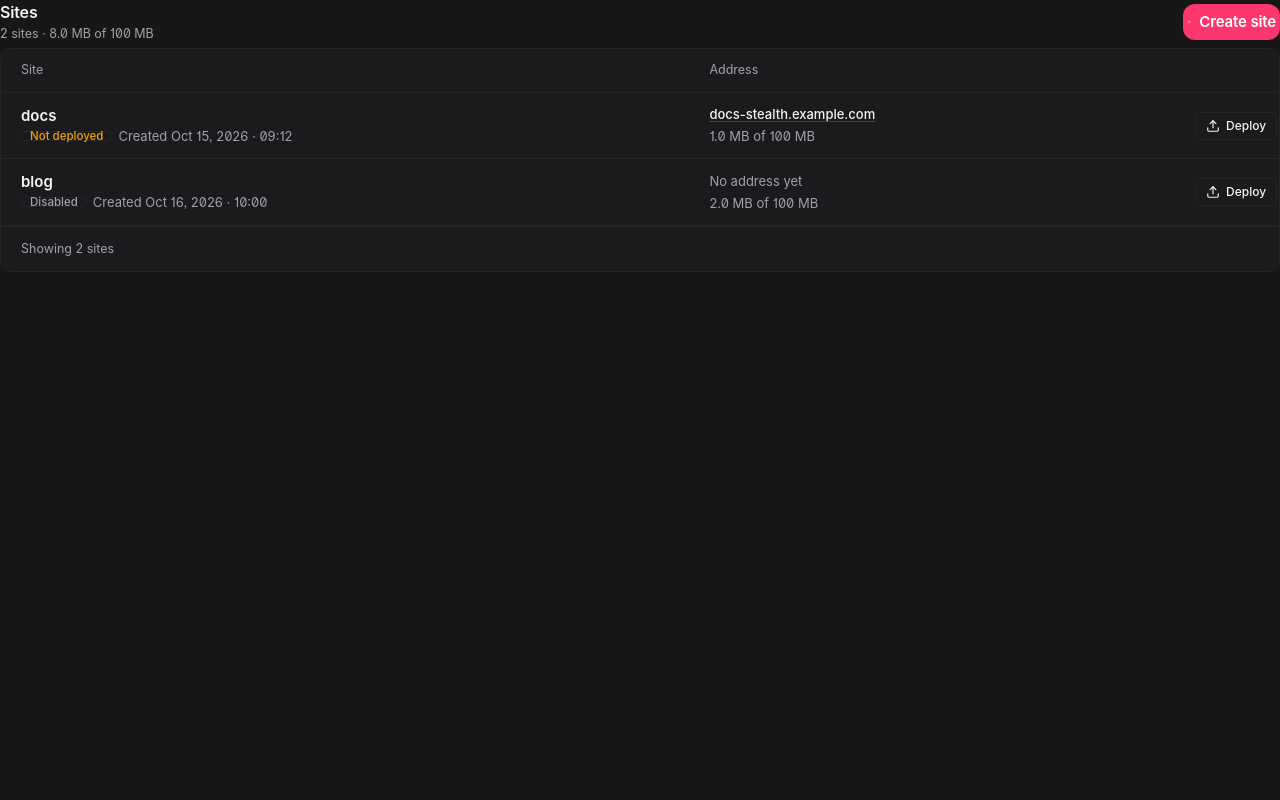
Scenario: ProjectSites › opens the deploy dialog for the row it was clicked on
Click the button with aria-label "Deploy to ": (1236, 192) [1195,178,1277,206]
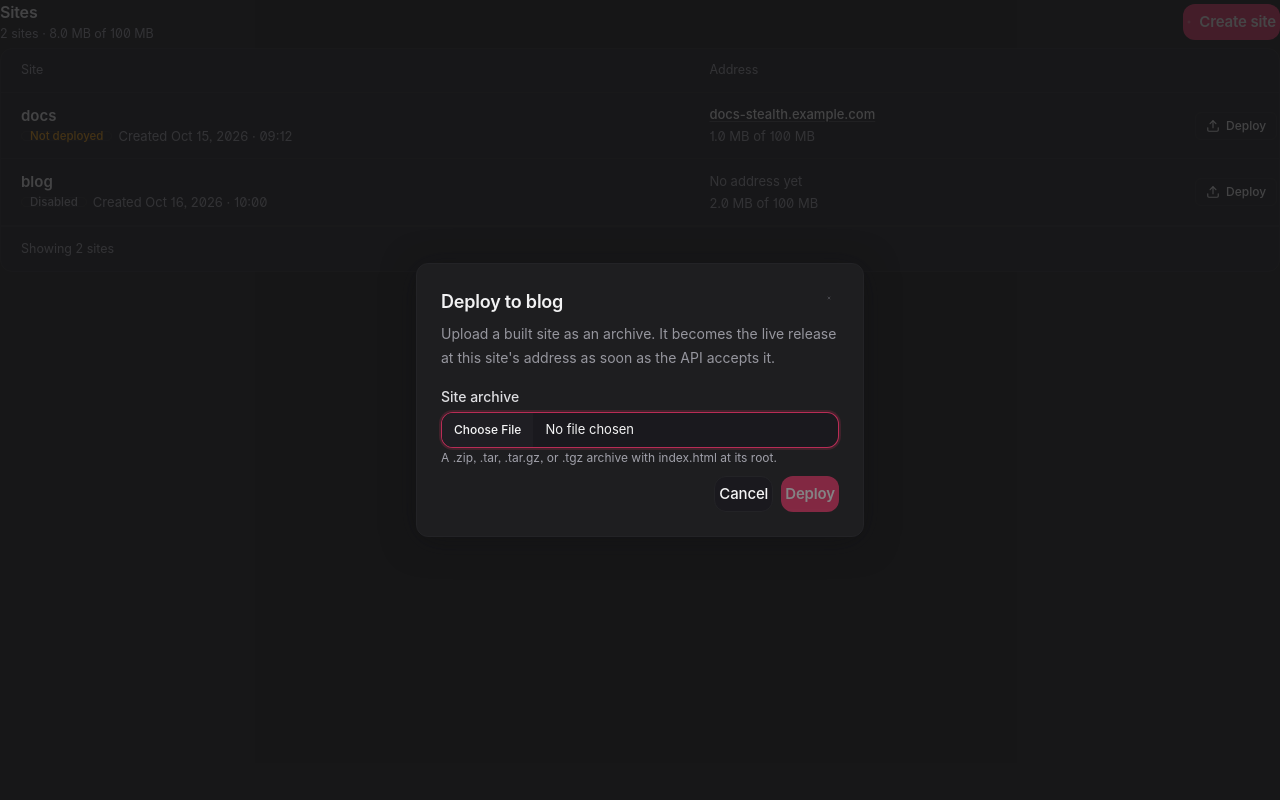
Result: the heading "Deploy to blog" is shown at [441,291,563,312]
